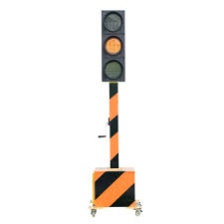semaforo: (101, 9, 125, 82)
